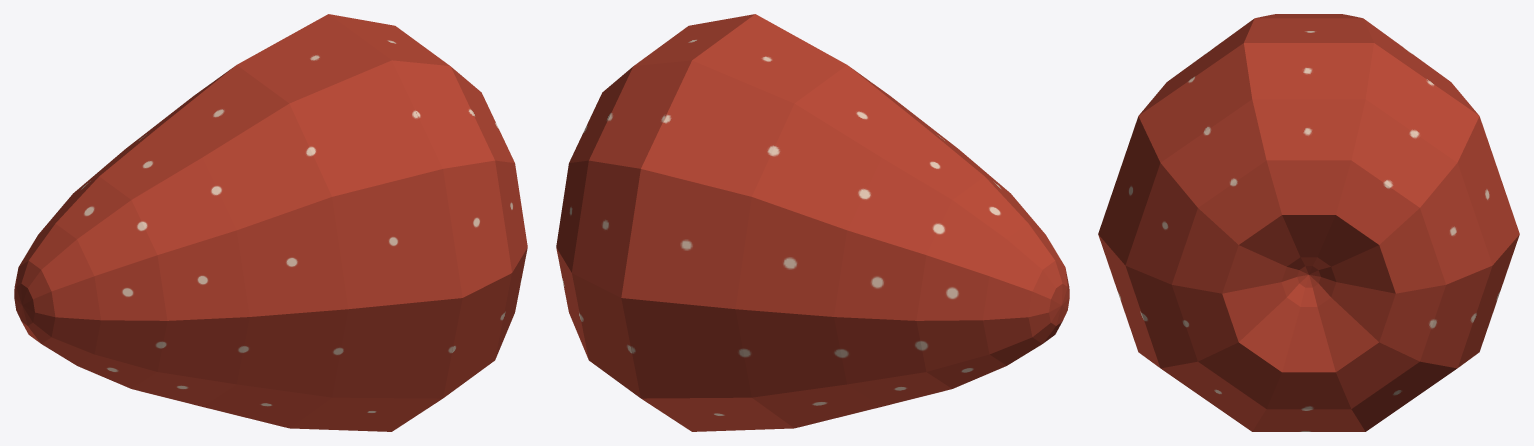
Rendered from straw.fbx.
3 views of the same model, side by side, from view 1: azimuth 30°, elevation 25°; view 2: azimuth 150°, elevation 25°; view 3: azimuth 270°, elevation 25° (orthographic). The views are drawn at different scales.
Parts seen in each view (by area): view 1: 円.004; view 2: 円.004; view 3: 円.004.
Part boxes in pixels (x1=…): 円.004: x1=14, y1=14, x2=527, y2=431; 円.004: x1=556, y1=14, x2=1069, y2=431; 円.004: x1=1098, y1=14, x2=1519, y2=431.
Bounding box in the file's own units: 450 × 350 × 350.
